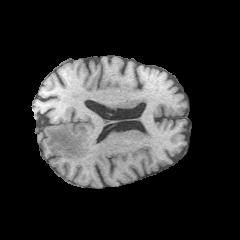glioma: (45, 126, 90, 159)
